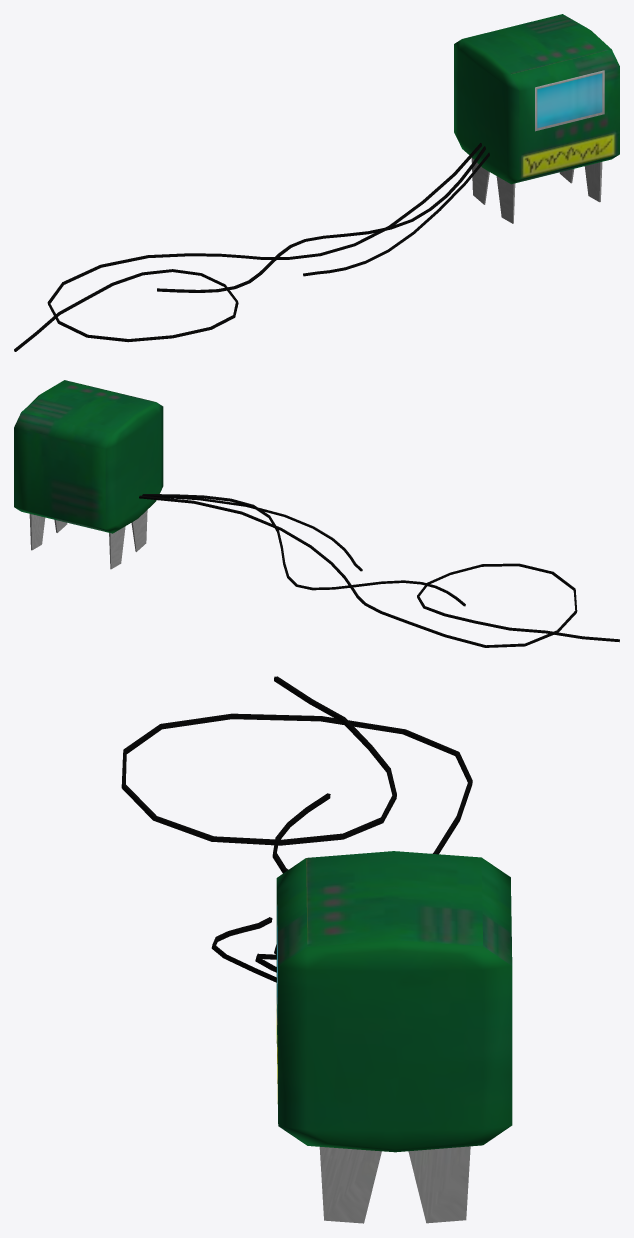
File: colony-mini-pc-art.glb
3 renders of one model, top to bottom at view 1: azimuth 30°, elevation 25°; view 2: azimuth 150°, elevation 25°; view 3: azimuth 270°, elevation 25°, orthographic. The views are drawn at different scales.
Visible parts, largest first — view 1: Colony_MiniPC_Art; view 2: Colony_MiniPC_Art; view 3: Colony_MiniPC_Art.
Boxes of the visible parts, left/top/right/bottom form: Colony_MiniPC_Art: left=14, top=14, right=619, bottom=351; Colony_MiniPC_Art: left=14, top=380, right=619, bottom=647; Colony_MiniPC_Art: left=121, top=676, right=512, bottom=1223.
Bounding box in the file's own units: 2.06 × 0.5153 × 0.6315.
Materials: 2 (2 with a texture image).
